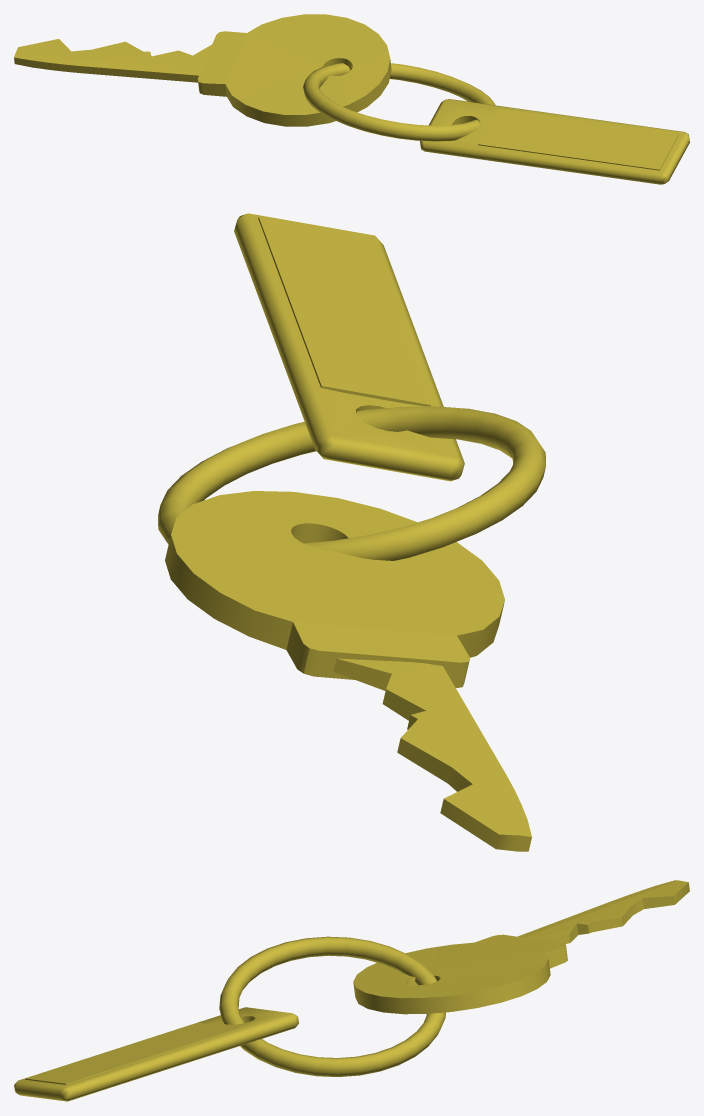
The model's file is key.fbx.
3 views of the same model, one above another, from view 1: azimuth 30°, elevation 25°; view 2: azimuth 150°, elevation 25°; view 3: azimuth 270°, elevation 25° (orthographic). The views are drawn at different scales.
Parts seen in each view (by area): view 1: key; view 2: key; view 3: key.
Boxes of the visible parts, left/top/right/bottom form: key: left=14, top=14, right=689, bottom=184; key: left=158, top=213, right=545, bottom=851; key: left=14, top=880, right=689, bottom=1101.
Bounding box in the file's own units: 16.19 × 19.99 × 1.85.
